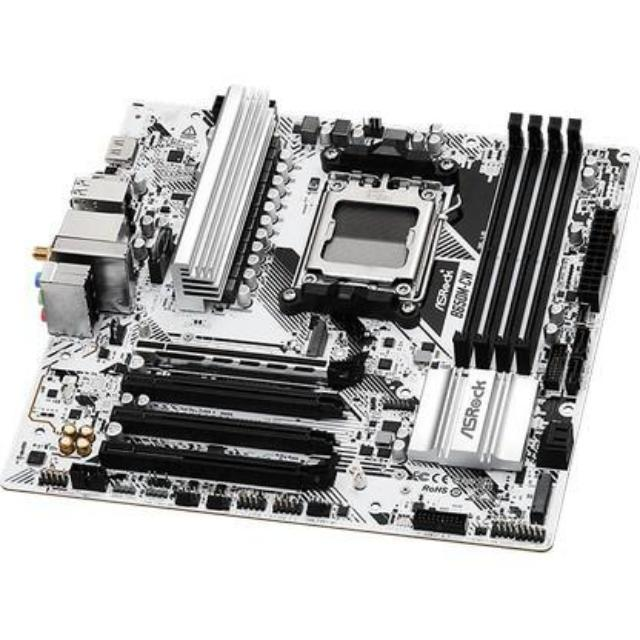Mainboard: (0, 56, 640, 558)
